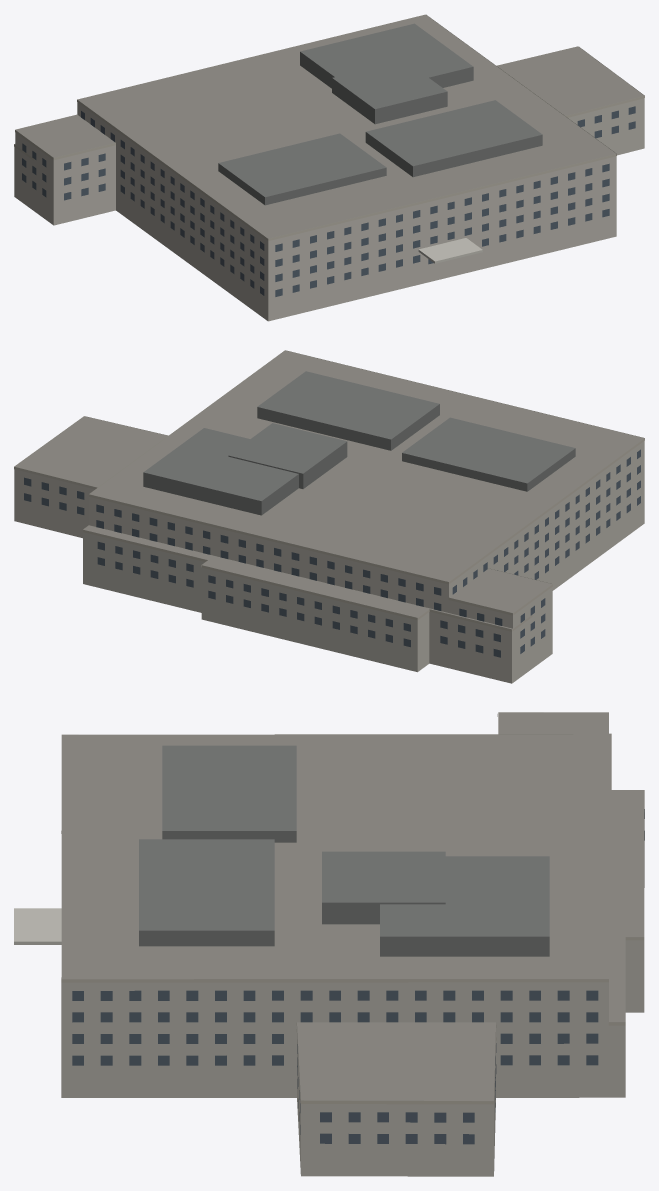
The model's file is holiday-inn-airport.glb.
3 renders of one model, top to bottom at view 1: azimuth 30°, elevation 25°; view 2: azimuth 150°, elevation 25°; view 3: azimuth 270°, elevation 25°, orthographic. The views are drawn at different scales.
Visible parts, largest first — view 1: holiday_inn_airport; view 2: holiday_inn_airport; view 3: holiday_inn_airport.
Boxes of the visible parts, x1,y1,x2,y2 form: holiday_inn_airport: (14,14,644,321); holiday_inn_airport: (14,350,644,683); holiday_inn_airport: (14,712,644,1176).
Size of the model in its own units: 110 by 19.54 by 79.54.
